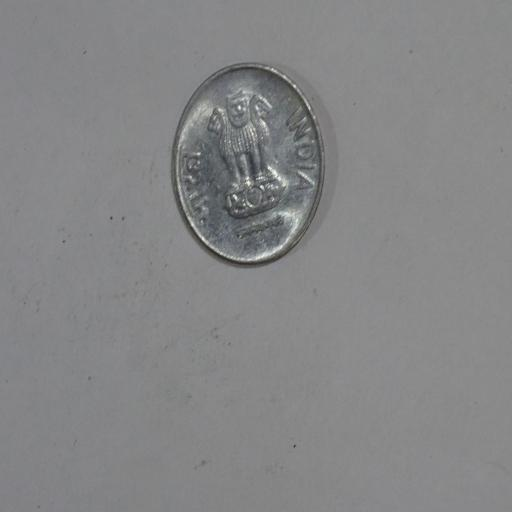rupee1: (169, 63, 326, 266)
